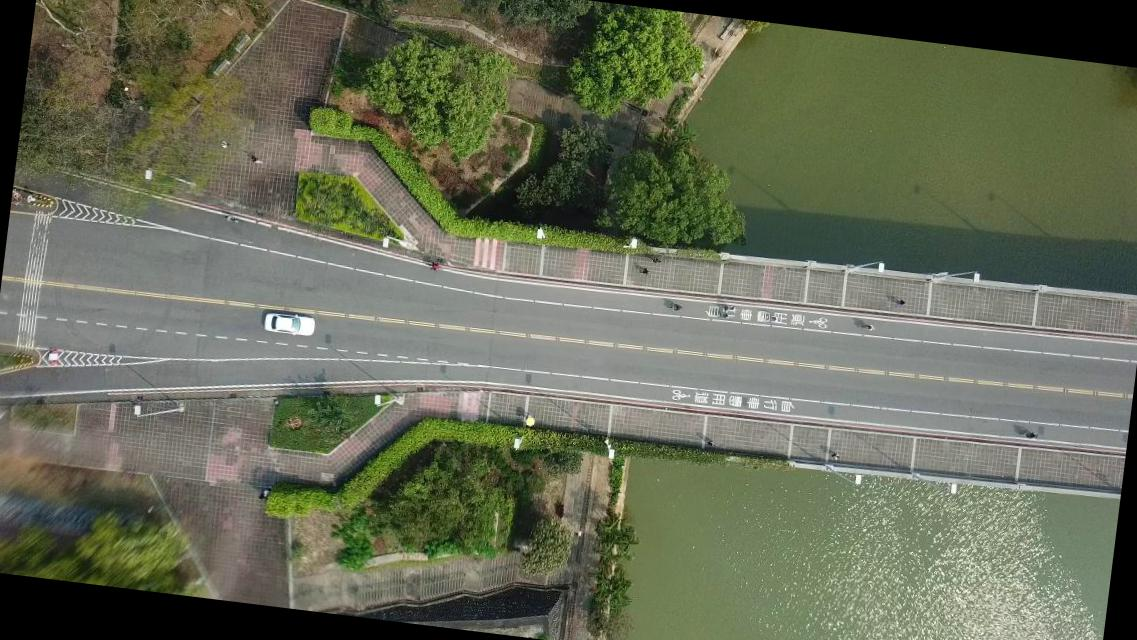vehicle: (262, 309, 315, 338)
